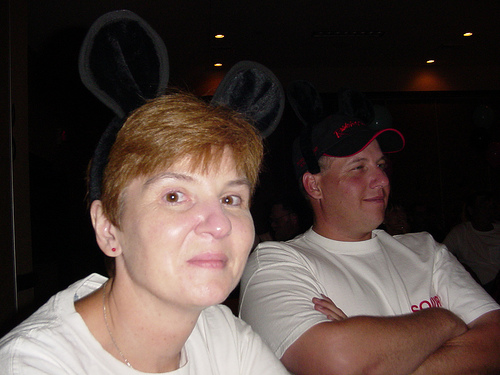without_mask: (94, 145, 255, 310), (300, 144, 393, 237)
